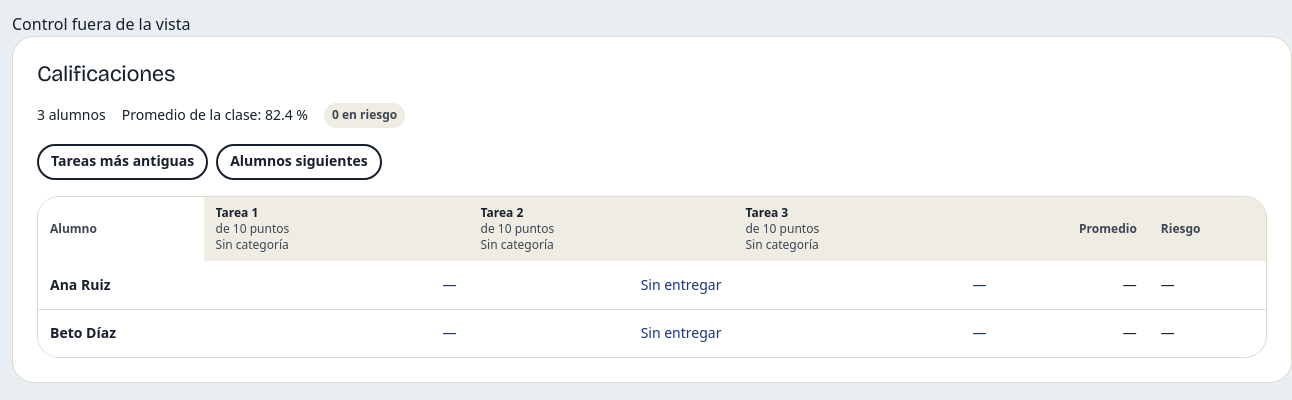
Test: N-50: los tres vecinos de T-06 que el manager comprobó sin prueba › CAL-T-202: ventana vacía y luego una recarga de fondo que falla con 5xx: sigue el texto del cursor con el resumen y la navegación, sin el genérico ni aviso (S-1
Click the button "Alumnos siguientes" at coordinates (299, 162), box [216,144,382,180]
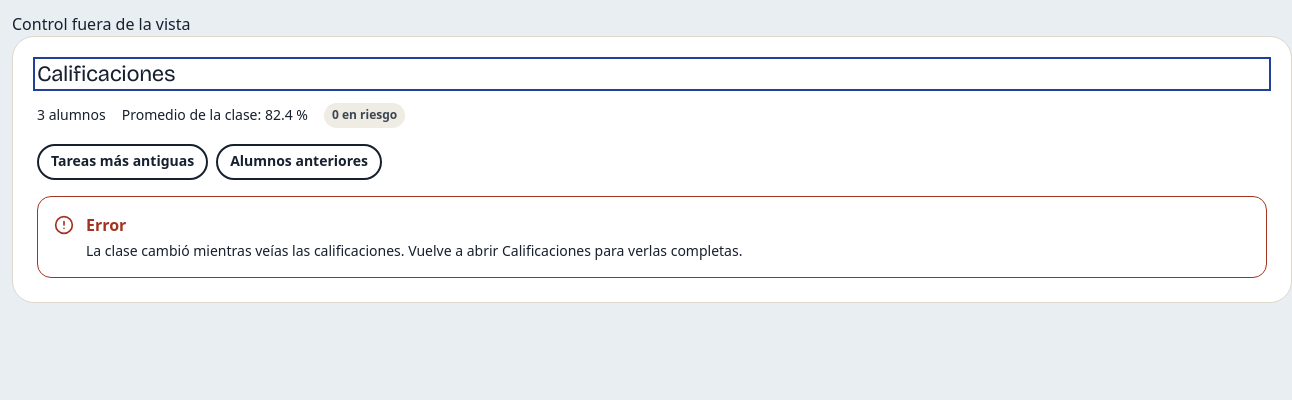
Expected: the text "La clase cambió mientras veías las calificaciones. Vuelve a abrir Calificaciones para verlas completas." is shown, [86,241,742,260]
Expected: the text "La clase cambió mientras veías las calificaciones. Vuelve a abrir Calificaciones para verlas completas." is shown once, [86,241,742,261]
Expected: the number of messages is 1, [37,196,1267,278]
